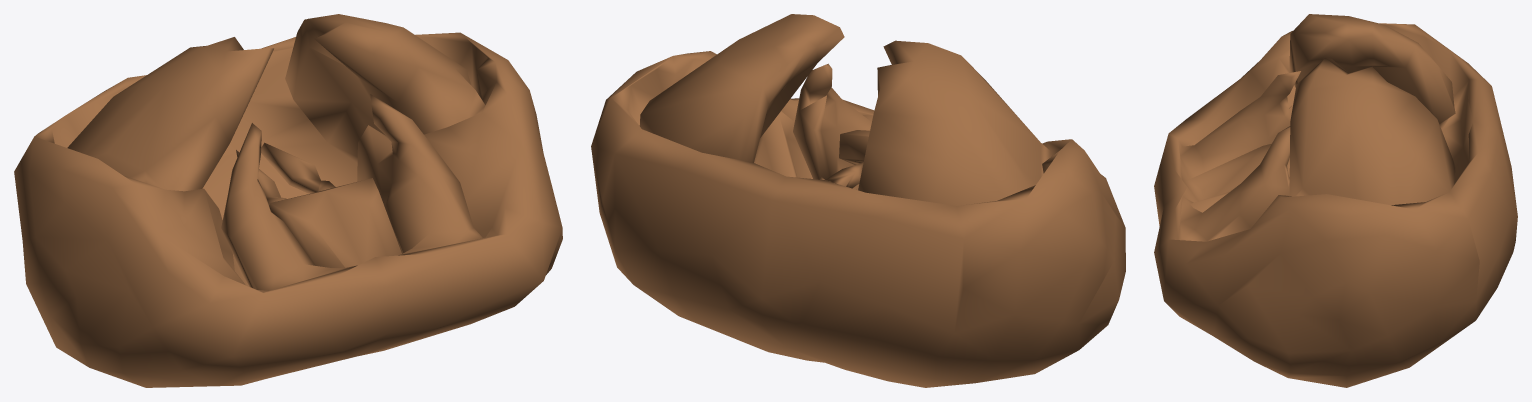
File: Woodeater.fbx
3 views of the same model, side by side, from view 1: azimuth 30°, elevation 25°; view 2: azimuth 150°, elevation 25°; view 3: azimuth 270°, elevation 25° (orthographic). The views are drawn at different scales.
Parts seen in each view (by area): view 1: Woodeater - MAVG; view 2: Woodeater - MAVG; view 3: Woodeater - MAVG.
Boxes of the visible parts, x1=… form: Woodeater - MAVG: x1=14, y1=14, x2=562, y2=387; Woodeater - MAVG: x1=591, y1=14, x2=1125, y2=387; Woodeater - MAVG: x1=1154, y1=14, x2=1517, y2=387.
Bounding box in the file's own units: 51.14 × 31.89 × 36.15.
